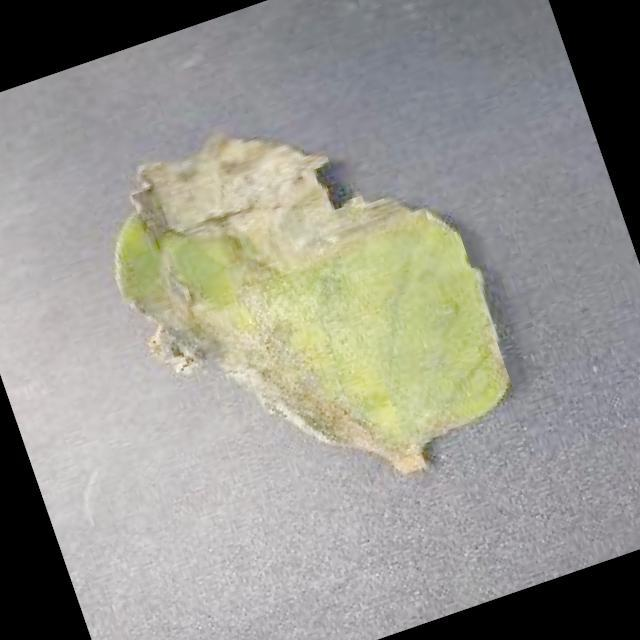Tomato late blight leaf: (80, 64, 526, 521)
